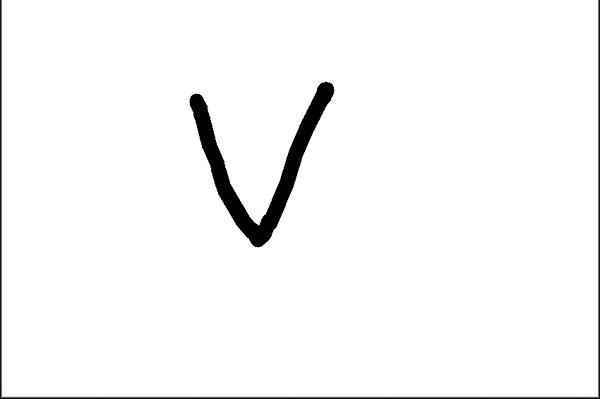V: (179, 82, 341, 251)
